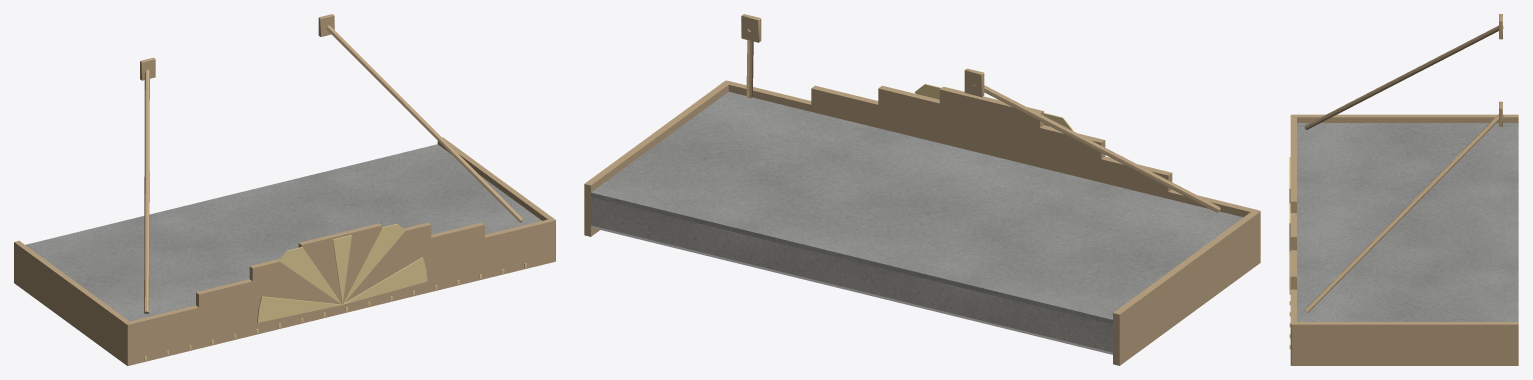
File: marquee.glb
3 views of the same model, side by side, from view 1: azimuth 30°, elevation 25°; view 2: azimuth 150°, elevation 25°; view 3: azimuth 270°, elevation 25° (orthographic). The views are drawn at different scales.
Parts seen in each view (by area): view 1: marquee_membrane, marquee_bronze, marquee_gold; view 2: marquee_membrane, marquee_bronze, marquee_concrete, marquee_ceil; view 3: marquee_membrane, marquee_bronze, marquee_gold.
Part boxes in pixels (box(x1,y1,x2,y2)): marquee_membrane: box(25, 144, 541, 321); marquee_bronze: box(14, 14, 555, 365); marquee_gold: box(144, 224, 526, 360); marquee_membrane: box(591, 92, 1242, 324); marquee_bronze: box(584, 14, 1260, 365); marquee_concrete: box(591, 197, 1112, 352); marquee_ceil: box(591, 225, 1112, 354); marquee_membrane: box(1297, 123, 1518, 321); marquee_bronze: box(1290, 14, 1518, 365); marquee_gold: box(1289, 157, 1290, 349).
Bounding box in the file's own units: 4.8 × 2.13 × 2.21.
Materials: 6 (2 with a texture image).
